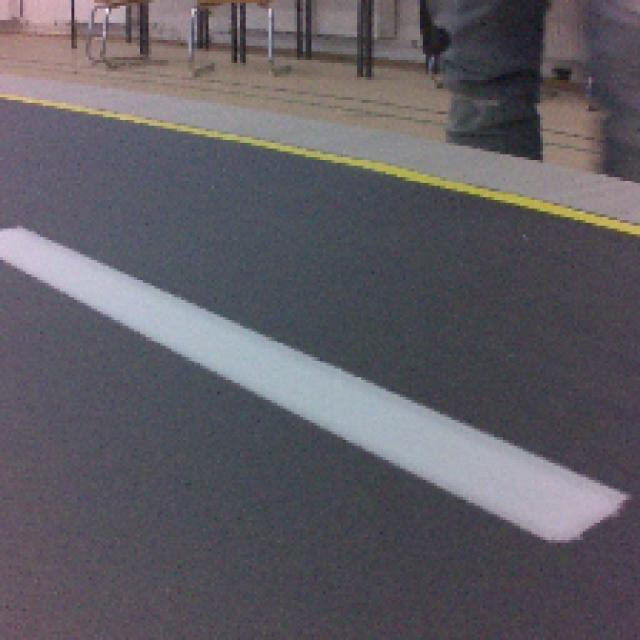Pedestrian crosswalk: (0, 223, 631, 541)
